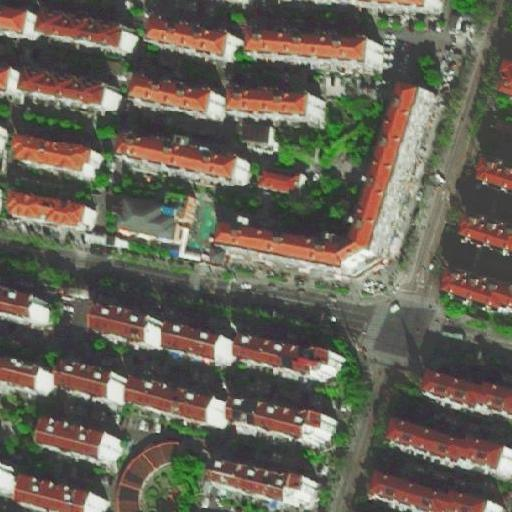building: (318, 85, 453, 277), (116, 371, 231, 433), (389, 421, 511, 476), (121, 135, 250, 187), (117, 441, 195, 511), (206, 462, 319, 510), (229, 332, 337, 382), (368, 469, 493, 512), (23, 8, 136, 55), (213, 221, 327, 267), (14, 68, 124, 115), (253, 29, 382, 69), (230, 396, 331, 447), (425, 373, 511, 419), (13, 132, 100, 177), (154, 17, 241, 62), (8, 470, 101, 512), (36, 419, 117, 467), (131, 76, 221, 118), (89, 304, 169, 351), (115, 192, 191, 240), (5, 190, 92, 229), (442, 264, 511, 311), (227, 88, 315, 122), (160, 320, 229, 363), (57, 358, 121, 401), (459, 213, 511, 254), (0, 357, 53, 393), (476, 154, 512, 193), (254, 166, 296, 192), (241, 121, 276, 145), (492, 59, 512, 98), (84, 231, 123, 251)
